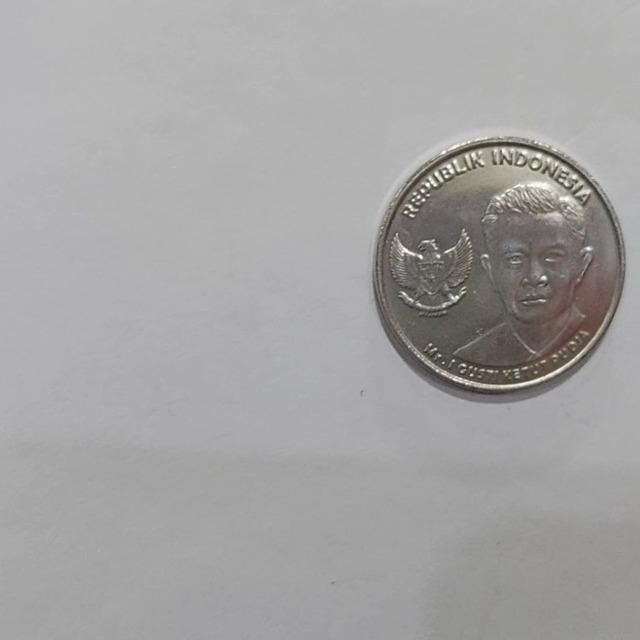Rp100: (373, 133, 626, 399), (434, 177, 598, 375)
